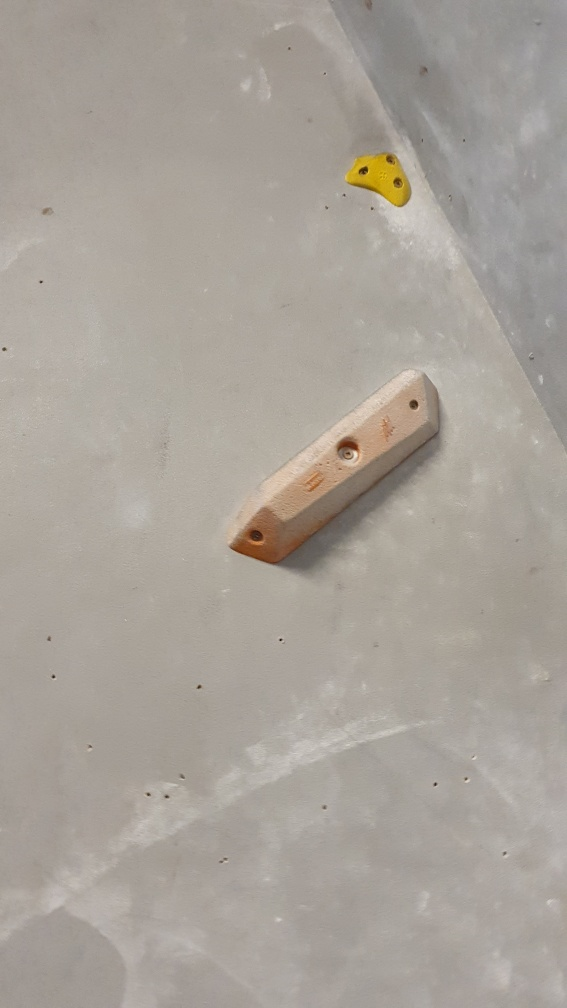Pinch: (219, 366, 442, 575)
